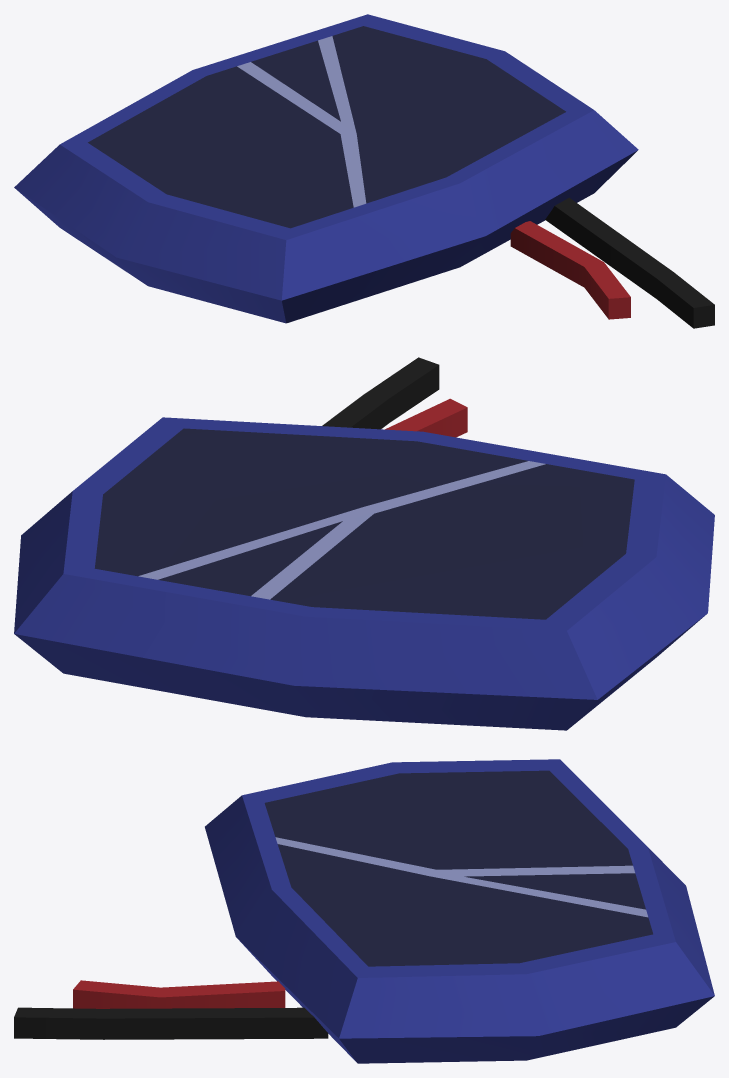
The model's file is Wall TV 01.FBX.
The picture shows the model from 3 angles, top to bottom: view 1: azimuth 30°, elevation 25°; view 2: azimuth 150°, elevation 25°; view 3: azimuth 270°, elevation 25°; orthographic projection. The views are drawn at different scales.
Visible parts, largest first — view 1: Wall TV 01; view 2: Wall TV 01; view 3: Wall TV 01.
Boxes of the visible parts, x1,y1,x2,y2 form: Wall TV 01: (14, 14, 714, 328); Wall TV 01: (14, 357, 714, 730); Wall TV 01: (14, 759, 714, 1063).
Size of the model in its own units: 134 by 21.4 by 156.
